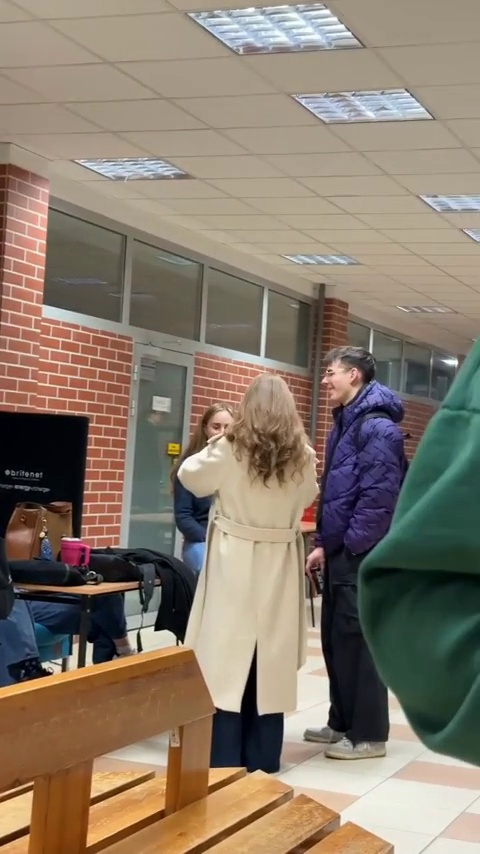no vest: (188, 365, 313, 735), (318, 349, 413, 734)
